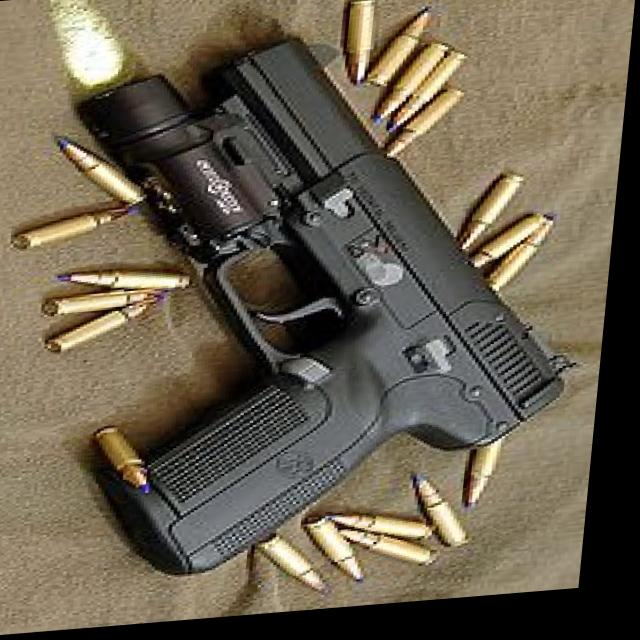handgun: (109, 2, 623, 577)
